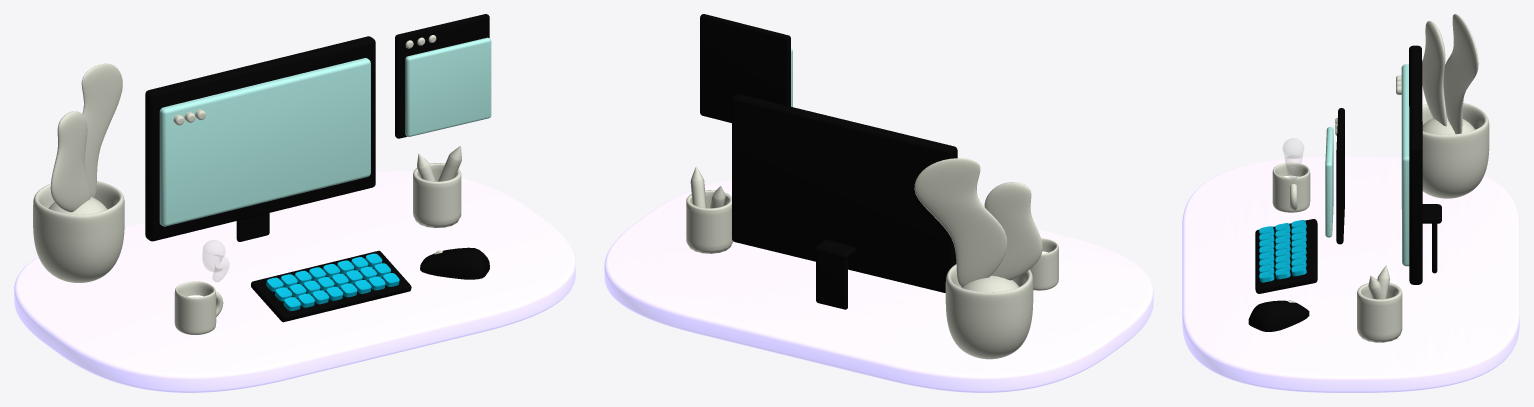
File: pcdemo1.glb
The picture shows the model from 3 angles, left to right: view 1: azimuth 30°, elevation 25°; view 2: azimuth 150°, elevation 25°; view 3: azimuth 270°, elevation 25°; orthographic projection. The views are drawn at different scales.
Parts seen in each view (by area): view 1: Rectangle, Cube 10, Cube (×3), Cube 27, Cube 37, Cube 26, Cube 36, Cube 35, Cube 9, Cylinder, Cube 17, Path (+1 smaller); view 2: Rectangle, Cube (×2), Cube 26, Cube 35, Cube 37, Cube 36, Cylinder, Cube 17, Cube 38, Cube 16, Cube 2; view 3: Rectangle, Cube (×3), Cube 37, Cube 35, Cylinder, Cube 36, Cube 9, Cube 10, Cube 17, Cube 26, Cube 27, Path (+2 smaller).
Part boxes in pixels (x1=…): Rectangle: x1=14, y1=171, x2=575, y2=392; Cube 10: x1=159, y1=58, x2=370, y2=226; Cube (×3): x1=145, y1=36, x2=489, y2=279; Cube 27: x1=405, y1=37, x2=491, y2=136; Cube 37: x1=33, y1=181, x2=124, y2=282; Cube 26: x1=395, y1=14, x2=489, y2=138; Cube 36: x1=50, y1=111, x2=90, y2=212; Cube 35: x1=81, y1=63, x2=122, y2=197; Cube 9: x1=251, y1=250, x2=411, y2=322; Cylinder: x1=413, y1=163, x2=461, y2=227; Cube 17: x1=174, y1=281, x2=216, y2=334; Path: x1=203, y1=240, x2=228, y2=281; Rectangle: x1=604, y1=179, x2=1153, y2=392; Cube (×2): x1=732, y1=94, x2=957, y2=309; Cube 26: x1=700, y1=14, x2=790, y2=122; Cube 35: x1=914, y1=158, x2=1007, y2=287; Cube 37: x1=945, y1=264, x2=1033, y2=359; Cube 36: x1=984, y1=182, x2=1042, y2=280; Cylinder: x1=686, y1=190, x2=733, y2=253; Cube 17: x1=1029, y1=238, x2=1058, y2=290; Cube 38: x1=961, y1=275, x2=1018, y2=292; Cube 16: x1=814, y1=239, x2=855, y2=259; Cube 2: x1=690, y1=166, x2=706, y2=207; Rectangle: x1=1182, y1=156, x2=1519, y2=392; Cube (×3): x1=1248, y1=45, x2=1437, y2=331; Cube 37: x1=1422, y1=103, x2=1489, y2=198; Cube 35: x1=1443, y1=14, x2=1478, y2=134; Cylinder: x1=1357, y1=283, x2=1402, y2=342; Cube 36: x1=1422, y1=21, x2=1446, y2=126; Cube 9: x1=1255, y1=219, x2=1317, y2=293; Cube 10: x1=1401, y1=64, x2=1409, y2=266; Cube 17: x1=1272, y1=162, x2=1310, y2=212; Cube 26: x1=1336, y1=108, x2=1344, y2=244; Cube 27: x1=1325, y1=127, x2=1333, y2=237; Path: x1=1283, y1=138, x2=1303, y2=179.
Bounding box in the file's own units: 13.39 × 6.2 × 8.61.
